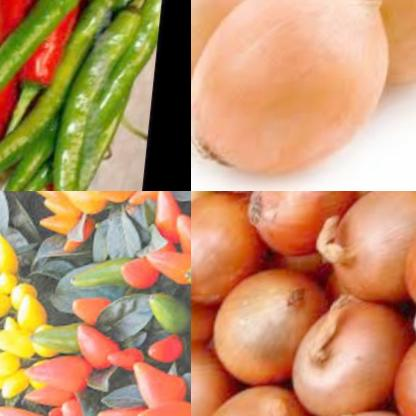hot pepper: (0, 0, 180, 191), (0, 0, 112, 191), (18, 296, 140, 416), (105, 191, 191, 310), (0, 224, 53, 409), (19, 191, 143, 248), (123, 360, 191, 416), (62, 256, 138, 306), (141, 288, 191, 340), (142, 331, 188, 363), (139, 397, 191, 416), (0, 191, 39, 205)
onion: (191, 191, 416, 416), (191, 0, 410, 177), (191, 0, 332, 90), (305, 0, 416, 92)
